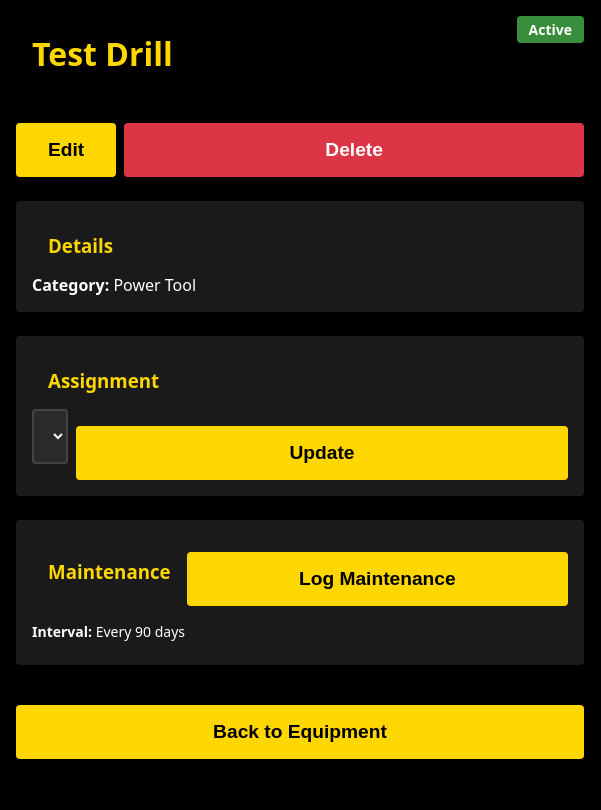
Scenario: EquipmentDetail › logs maintenance successfully
The width and height of the screenshot is (601, 810).
Expected: the heading "Test Drill" is shown, left=32, top=32, right=173, bottom=75
Step 1. Click the button "Log Maintenance" → [377, 579], box left=187, top=552, right=568, bottom=606
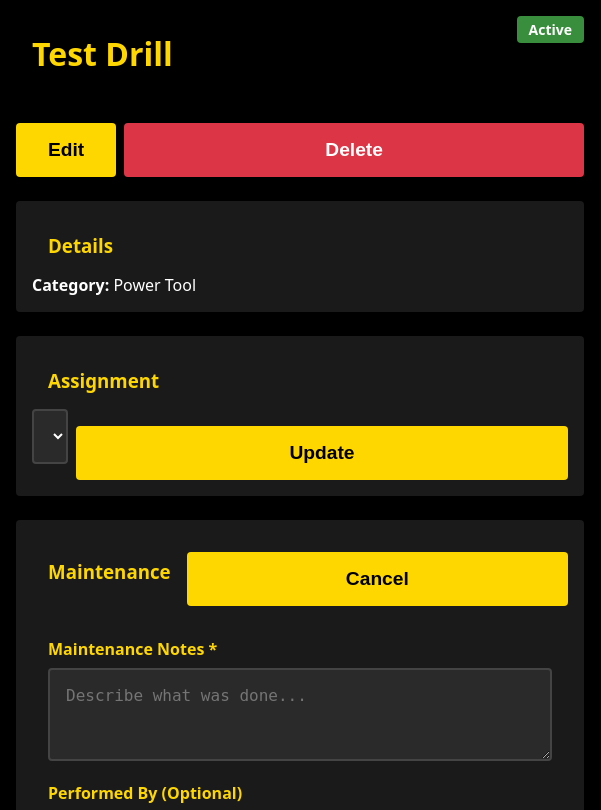
Now the text box labelled "Maintenance Notes *" is shown
Step 2. Type "Replaced brushes and cleaned motor" into the text box labelled "Maintenance Notes *" → [300, 714], box left=48, top=668, right=552, bottom=761
(page scrolled)
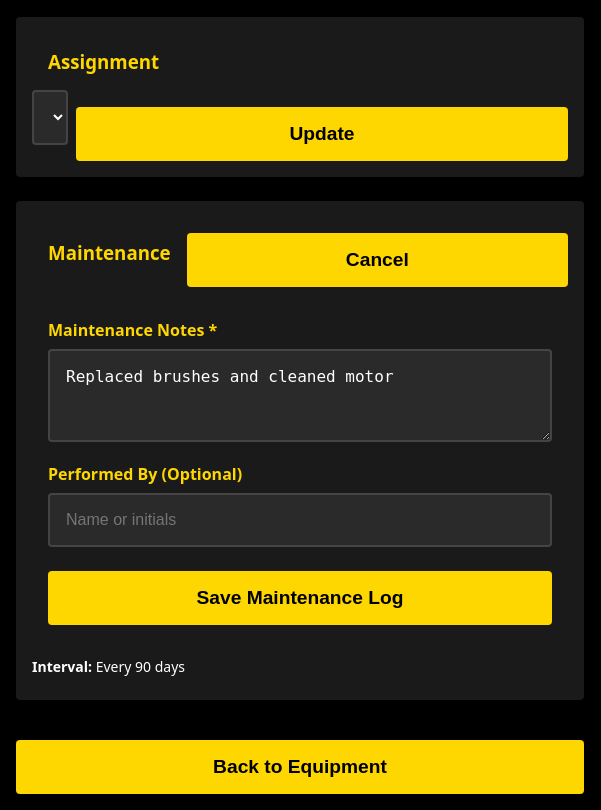
Step 3. Click the button "Save Maintenance Log" → [300, 598], box left=48, top=571, right=552, bottom=625
(page scrolled)
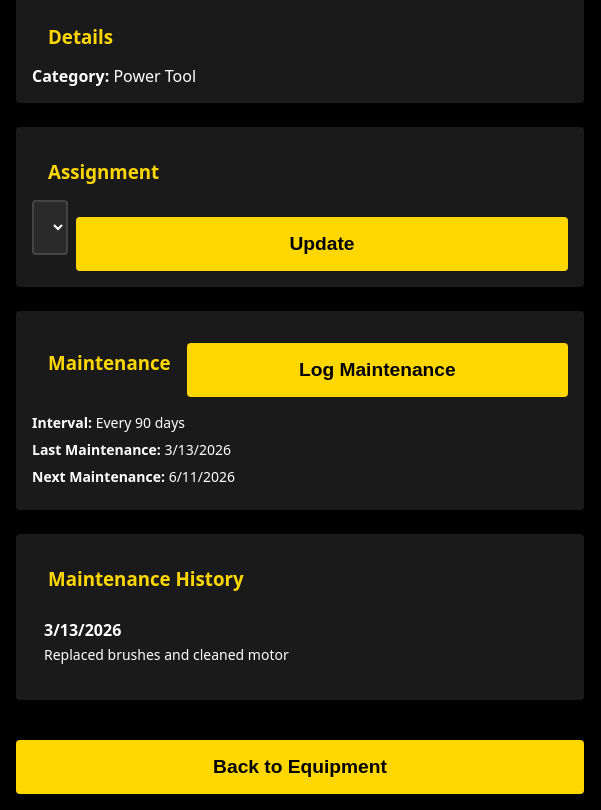
Now the text "Replaced brushes and cleaned motor" is shown, box left=44, top=645, right=289, bottom=664
